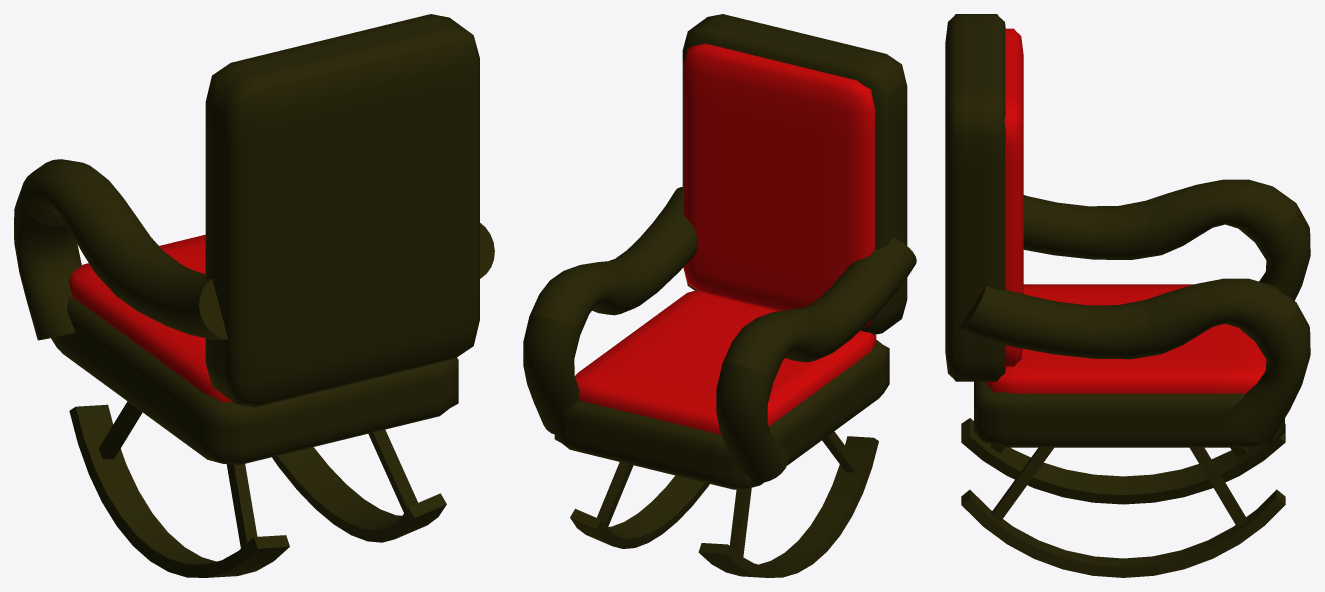
File: mecedora.FBX
3 renders of one model, left to right at view 1: azimuth 30°, elevation 25°; view 2: azimuth 150°, elevation 25°; view 3: azimuth 270°, elevation 25°, orthographic. The views are drawn at different scales.
Visible parts, largest first — view 1: Box004, Box003, Loft001, Tube002, Box002, Tube001, Box010, Box008, Box009, Loft002; view 2: Box001, Box002, Loft001, Box003, Loft002, Box004, Tube002, Tube001, Box009, Box007, Box010; view 3: Loft002, Box004, Loft001, Box003, Box002, Tube002, Tube001, Box001, Box007, Box008.
Part boxes in pixels (x1,y1,x2,y2): Box004: [205, 14, 479, 407]; Box003: [51, 296, 458, 464]; Loft001: [14, 159, 227, 340]; Tube002: [69, 404, 289, 577]; Box002: [68, 234, 231, 402]; Tube001: [272, 447, 446, 542]; Box010: [226, 464, 257, 548]; Box008: [368, 429, 417, 512]; Box009: [98, 401, 142, 459]; Loft002: [480, 223, 494, 278]; Box001: [683, 43, 875, 327]; Box002: [575, 290, 876, 434]; Loft001: [716, 237, 916, 483]; Box003: [554, 340, 889, 489]; Loft002: [523, 187, 697, 434]; Box004: [682, 14, 907, 334]; Tube002: [698, 436, 878, 577]; Tube001: [570, 475, 709, 548]; Box009: [729, 488, 751, 556]; Box007: [597, 462, 633, 528]; Box010: [822, 431, 857, 472]; Loft002: [958, 278, 1310, 443]; Box004: [945, 14, 1005, 381]; Loft001: [1023, 179, 1310, 300]; Box003: [974, 381, 1284, 447]; Box002: [986, 284, 1266, 393]; Tube002: [961, 418, 1285, 504]; Tube001: [961, 489, 1285, 577]; Box001: [1004, 28, 1023, 366]; Box007: [1190, 447, 1247, 527]; Box008: [991, 447, 1053, 521].
Bounding box in the file's own units: 510 × 927 × 639.
